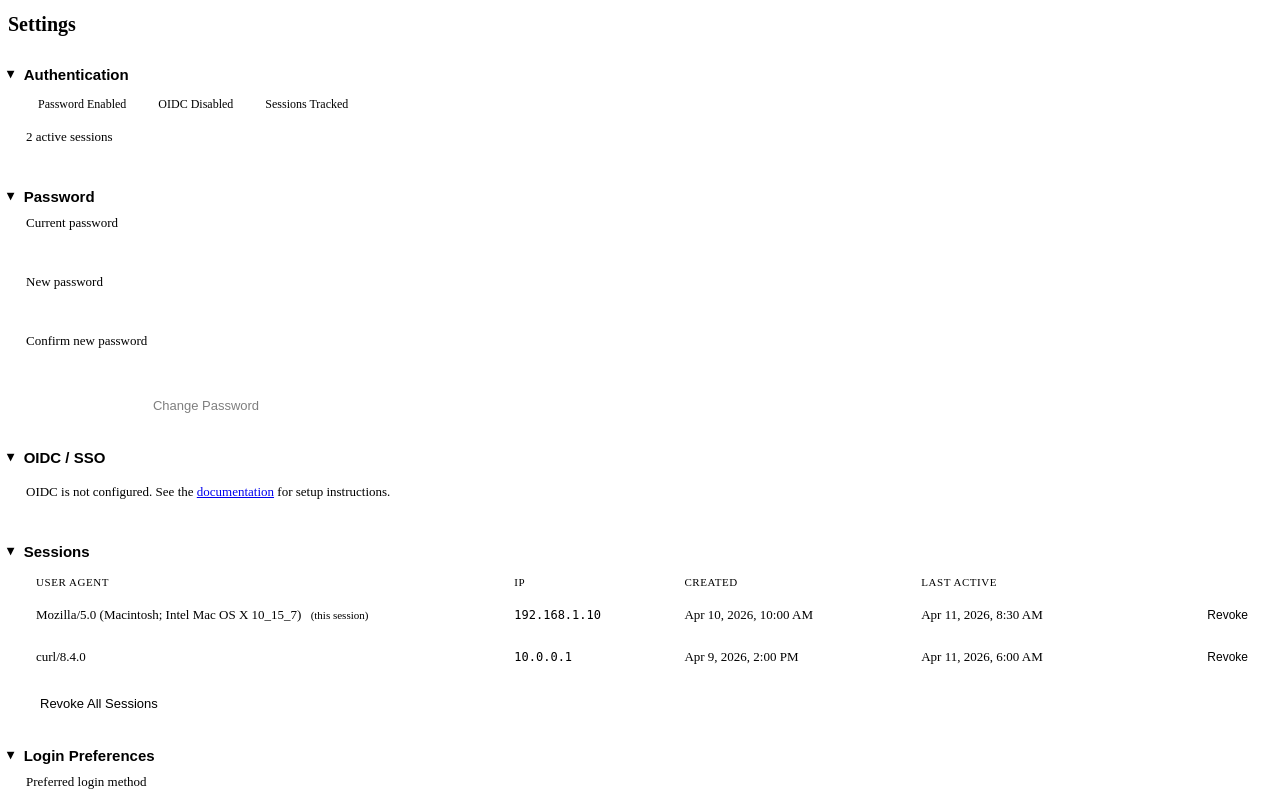
Test: Settings page › revoke button shows confirm then revokes
This screenshot has width=1280, height=795.
Check: the text "192.168.1.10" is shown, box [504,594,674,636]
# Click first Revoke button
Click the button "Revoke" in the row of "(this session)" at (1228, 615), box [1197,604,1258,626]
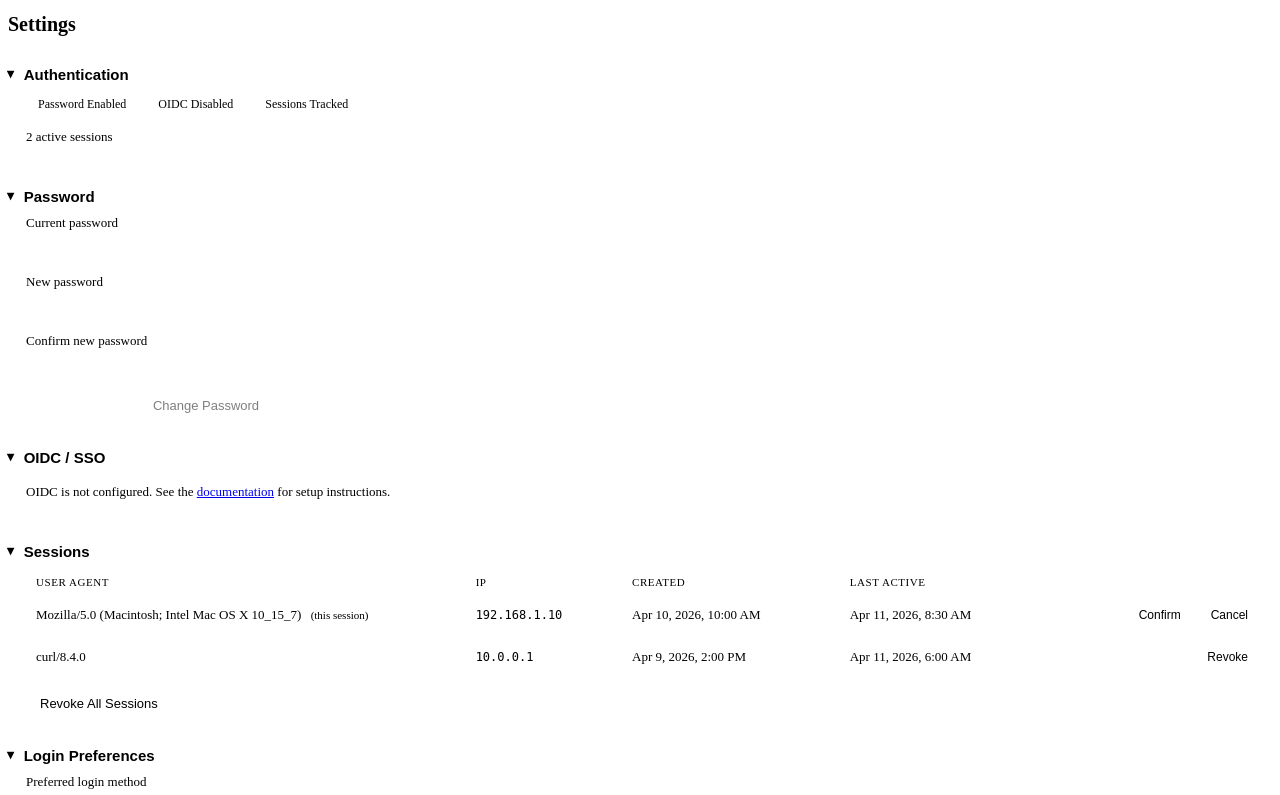
Check: the button "Confirm" is shown
Click the button "Confirm" at (1160, 615), box [1129,604,1191,626]
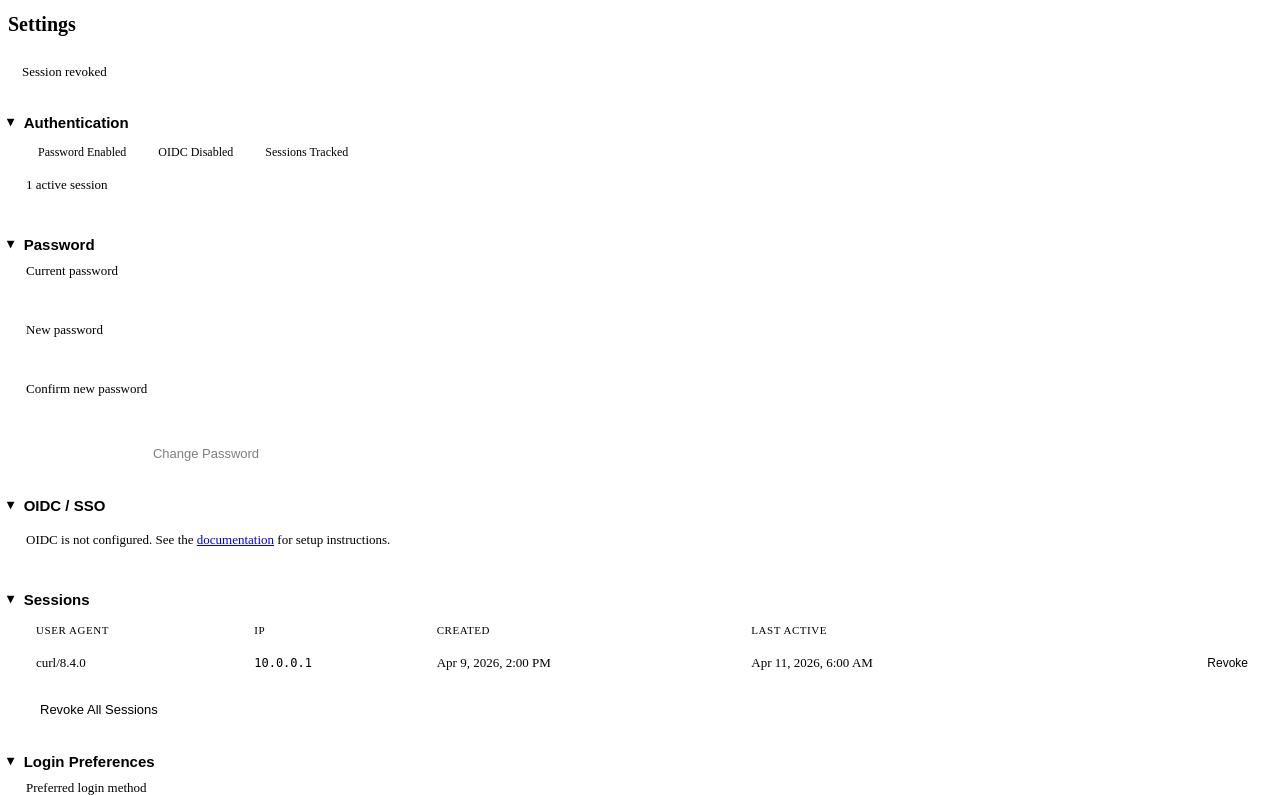
Check: the text "192.168.1.10" is gone
Check: the text "Session revoked" is shown, box [22,64,107,79]
